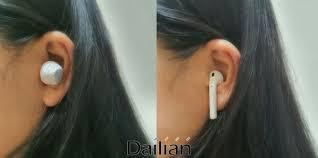earphone: (206, 67, 225, 121), (37, 58, 64, 85)
